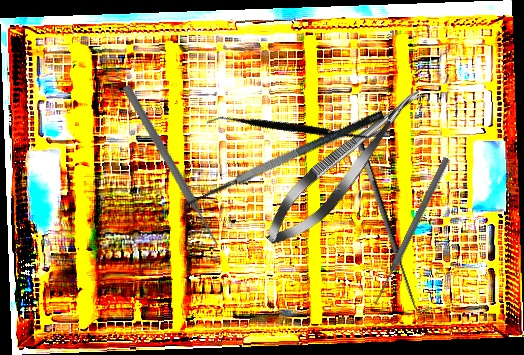Hook Surgical: (353, 133, 434, 318)
Micro Scissor: (253, 75, 436, 258)
Pusher: (120, 83, 223, 249), (369, 155, 452, 309)
Spatula Surgical: (205, 52, 383, 200), (177, 108, 393, 223)
